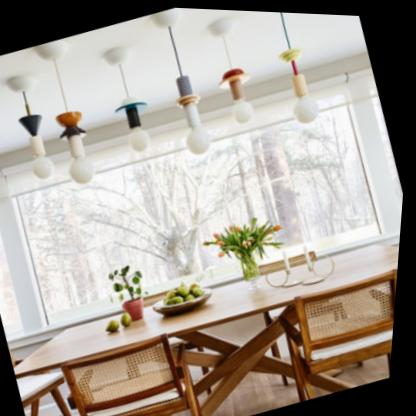Dining Table: (5, 205, 404, 416)
